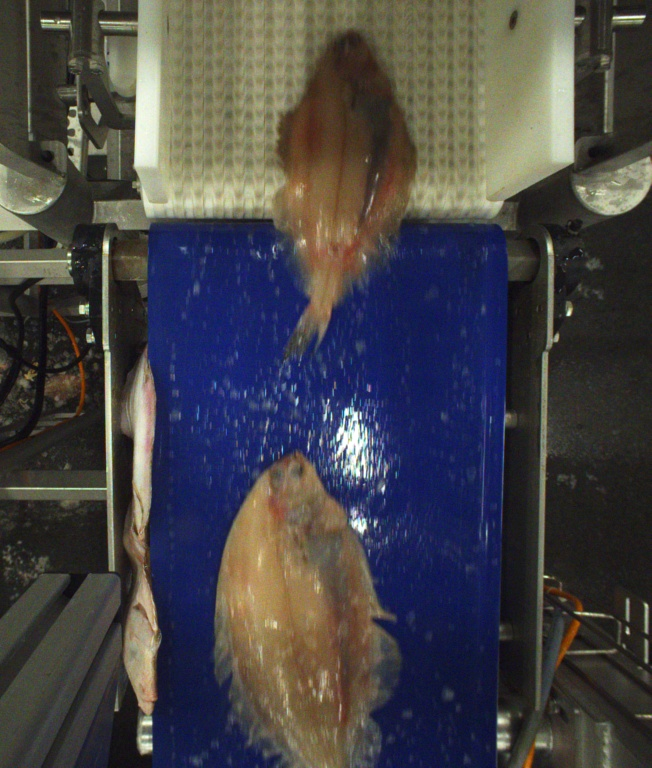WIT: (273, 28, 416, 367)
